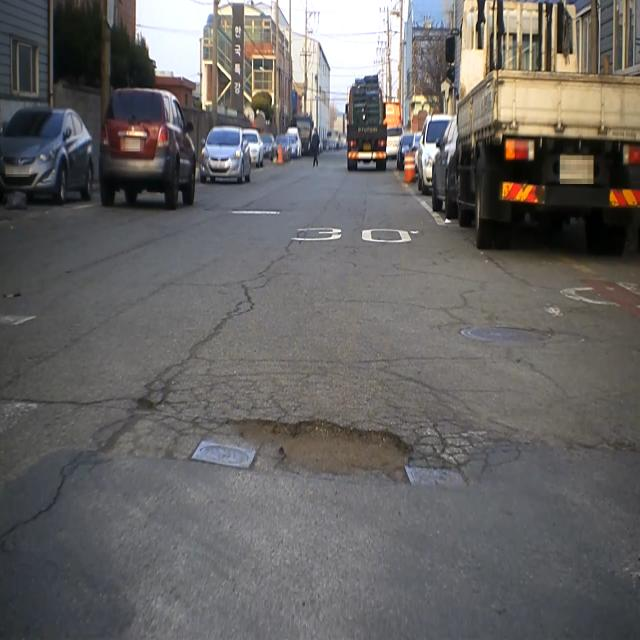Pothole: (184, 405, 466, 504)
